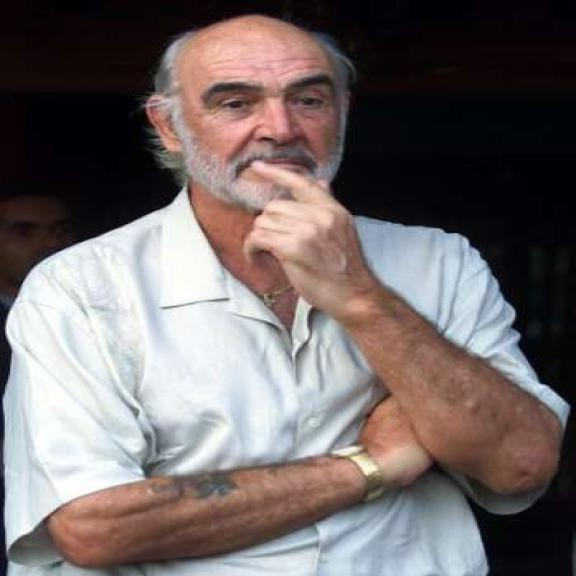face: (144, 34, 347, 208), (8, 200, 72, 300)
